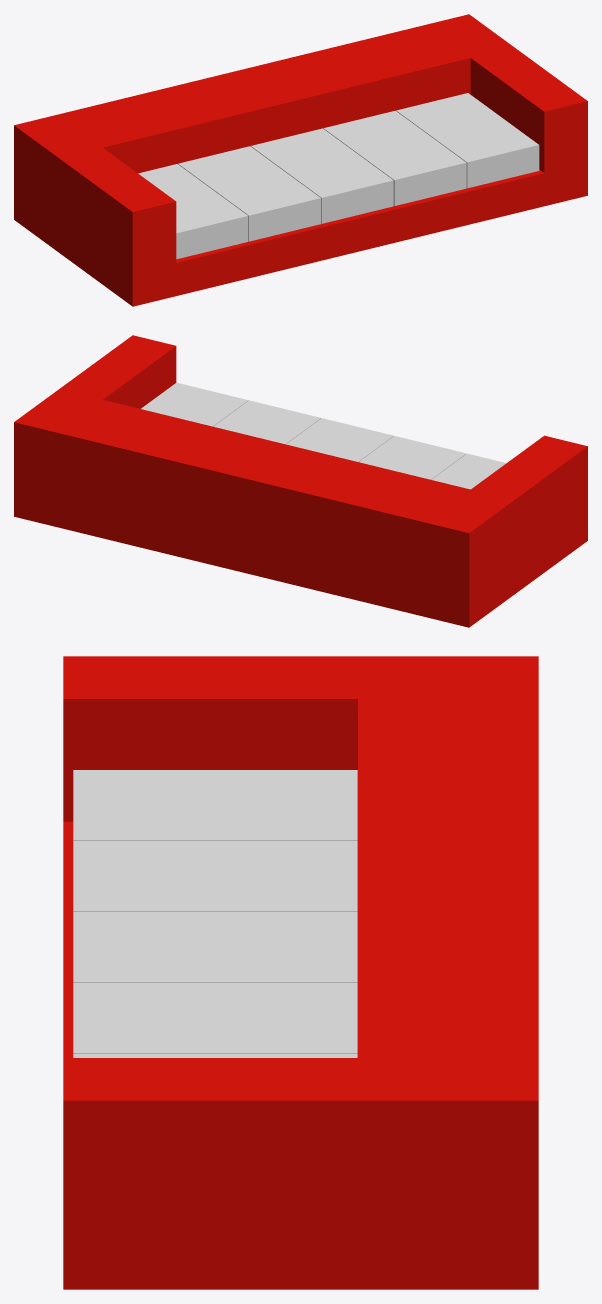
The model's file is pianino.fbx.
3 renders of one model, top to bottom at view 1: azimuth 30°, elevation 25°; view 2: azimuth 150°, elevation 25°; view 3: azimuth 270°, elevation 25°, orthographic. The views are drawn at different scales.
Visible parts, largest first — view 1: Cube, Cube.005, Cube.004, Cube.003, Cube.002, Cube.001; view 2: Cube, Cube.004, Cube.005, Cube.002, Cube.003, Cube.001; view 3: Cube, Cube.002, Cube.003, Cube.004, Cube.001, Cube.005.
Part boxes in pixels (<box>): Cube: <box>14,14,587,306</box>; Cube.005: <box>396,93,539,188</box>; Cube.004: <box>323,110,466,205</box>; Cube.003: <box>250,128,393,223</box>; Cube.002: <box>178,146,320,241</box>; Cube.001: <box>138,164,248,259</box>; Cube: <box>14,335,587,627</box>; Cube.004: <box>213,400,321,444</box>; Cube.005: <box>141,382,248,426</box>; Cube.002: <box>359,436,466,479</box>; Cube.003: <box>286,418,393,461</box>; Cube.001: <box>432,453,506,489</box>; Cube: <box>63,656,538,1289</box>; Cube.002: <box>73,840,357,911</box>; Cube.003: <box>73,911,357,982</box>; Cube.004: <box>73,982,357,1053</box>; Cube.001: <box>73,770,357,840</box>; Cube.005: <box>73,1053,357,1057</box>.
Bounding box in the file's own units: 200 × 39.68 × 90.43.
